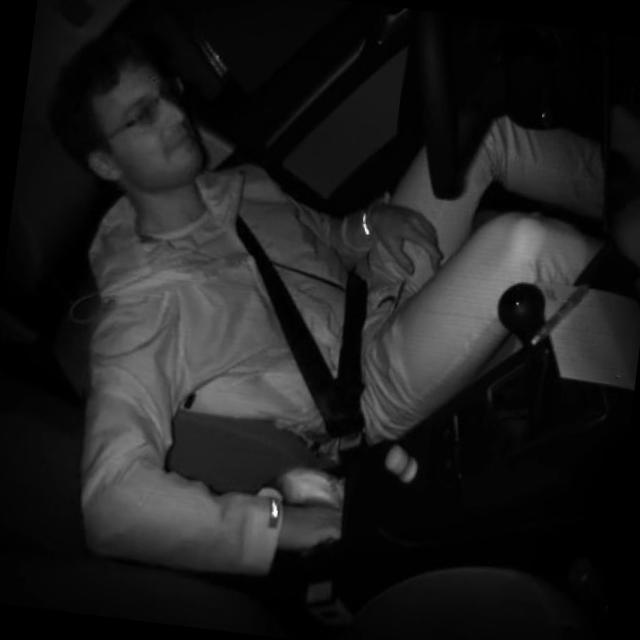pen: (530, 273, 594, 353)
